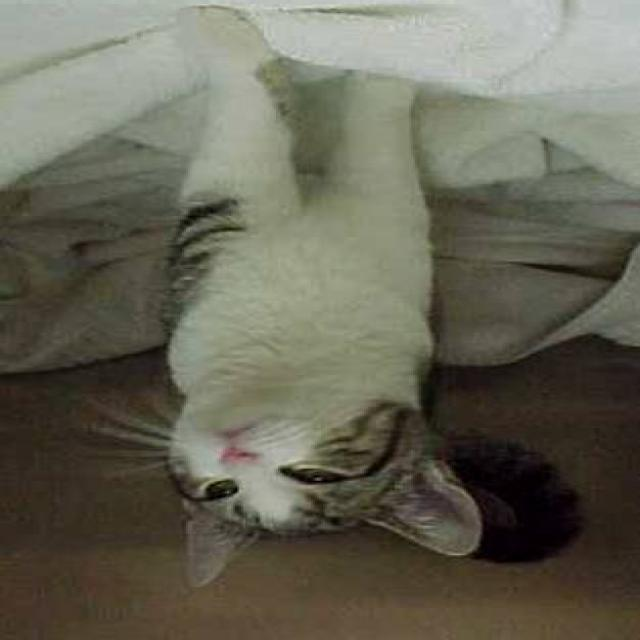Kucing: (84, 0, 561, 610)
